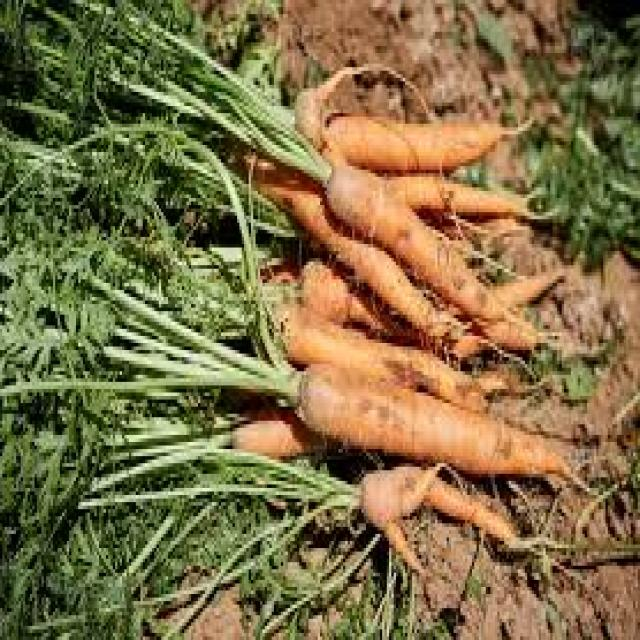Stale_Carrot: (299, 368, 601, 483)
